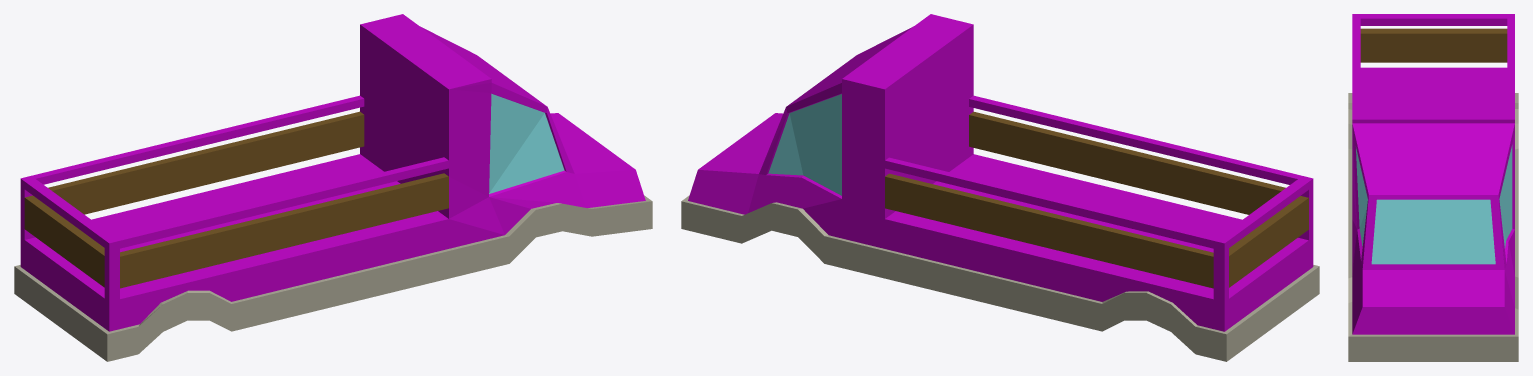
The model's file is co_Truck02.fbx.
3 views of the same model, side by side, from view 1: azimuth 30°, elevation 25°; view 2: azimuth 150°, elevation 25°; view 3: azimuth 270°, elevation 25° (orthographic). The views are drawn at different scales.
Parts seen in each view (by area): view 1: Truck02; view 2: Truck02; view 3: Truck02.
Boxes of the visible parts, x1,y1,x2,y2 form: Truck02: (14, 14, 652, 361); Truck02: (681, 14, 1319, 361); Truck02: (1348, 14, 1518, 361).
Bounding box in the file's own units: 936 × 307 × 277.
